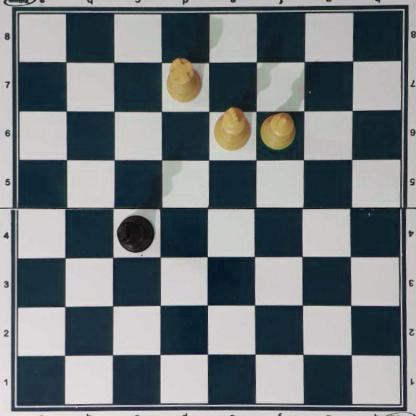black-king: (115, 215, 156, 254)
white-bishop: (260, 111, 295, 150)
white-king: (212, 105, 251, 151)
white-rook: (166, 59, 203, 102)
